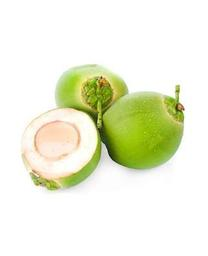coconut: (21, 107, 102, 190), (98, 92, 184, 169), (54, 65, 128, 123)
